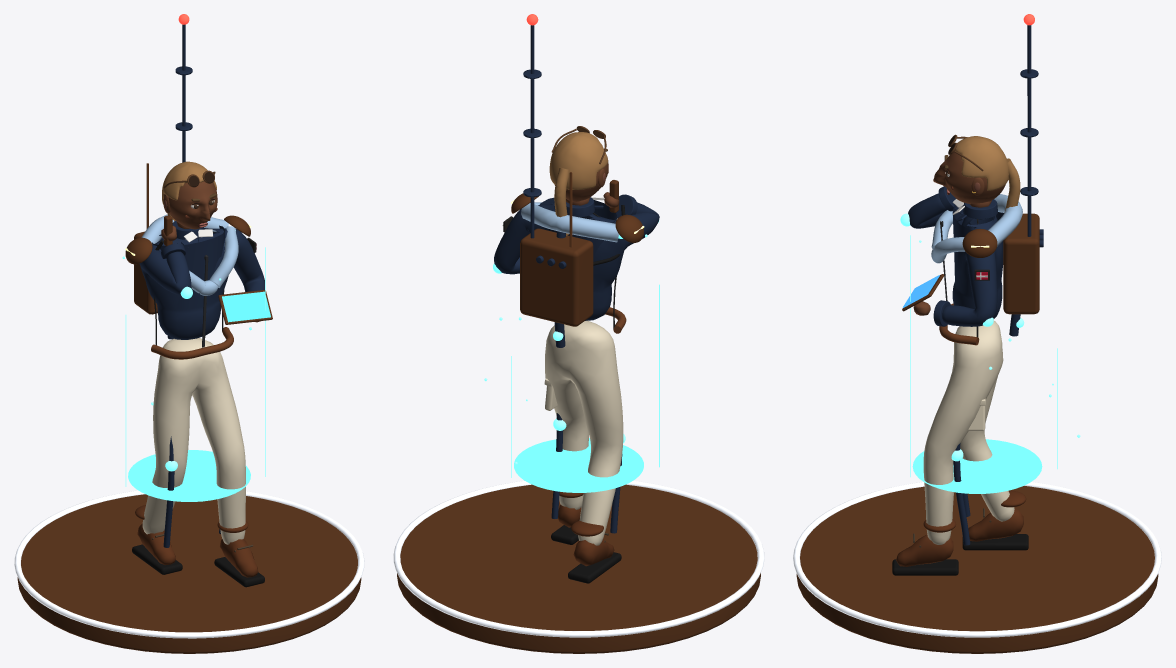
The model's file is signal_hellerup.glb.
3 views of the same model, side by side, from view 1: azimuth 30°, elevation 25°; view 2: azimuth 150°, elevation 25°; view 3: azimuth 270°, elevation 25° (orthographic). The views are drawn at different scales.
Visible parts, largest first — view 1: fod_net, menneske_net, op4.001_net, hoved_net, vaaben_net, op3_net, op4_net; view 2: fod_net, menneske_net, op4.001_net, hoved_net, op4_net, op3_net; view 3: fod_net, menneske_net, hoved_net, op4.001_net, op4_net, op3_net, vaaben_net.
Part boxes in pixels (x1,y1,x2,y2): fod_net: (14,490,364,653); menneske_net: (132,14,264,587); op4.001_net: (122,247,265,501); hoved_net: (162,161,217,229); vaaben_net: (164,215,272,324); op3_net: (125,163,251,264); op4_net: (163,230,235,547); fod_net: (393,480,764,653); menneske_net: (494,14,659,583); op4.001_net: (484,234,659,492); hoved_net: (549,126,608,235); op4_net: (493,220,659,533); op3_net: (511,172,644,247); fod_net: (793,482,1161,653); menneske_net: (892,14,1043,575); hoved_net: (933,134,1020,212); op4.001_net: (910,235,1080,493); op4_net: (900,213,1024,545); op3_net: (962,228,997,257); vaaben_net: (902,274,944,311).
Size of the model in its own units: 1.94 by 3.33 by 1.94.
